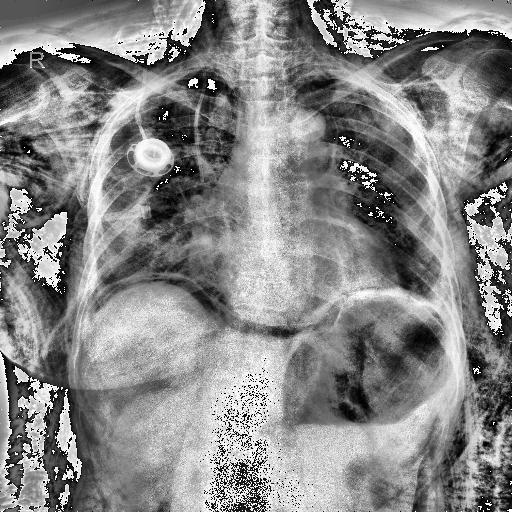0- Aortic enlargement: (284, 106, 328, 140)
12- Pneumothorax: (92, 276, 381, 336)
3- Cardiomegaly: (187, 213, 399, 298), (188, 224, 399, 292), (185, 245, 403, 298)
8- Nodule-Mass: (290, 108, 328, 142)
9- Other lesion: (10, 6, 500, 508), (4, 110, 100, 512), (422, 103, 504, 509), (12, 88, 76, 484), (446, 98, 502, 488), (85, 274, 391, 336), (82, 270, 354, 338), (92, 276, 381, 336), (108, 14, 436, 65), (288, 1, 462, 60), (84, 6, 230, 64)
